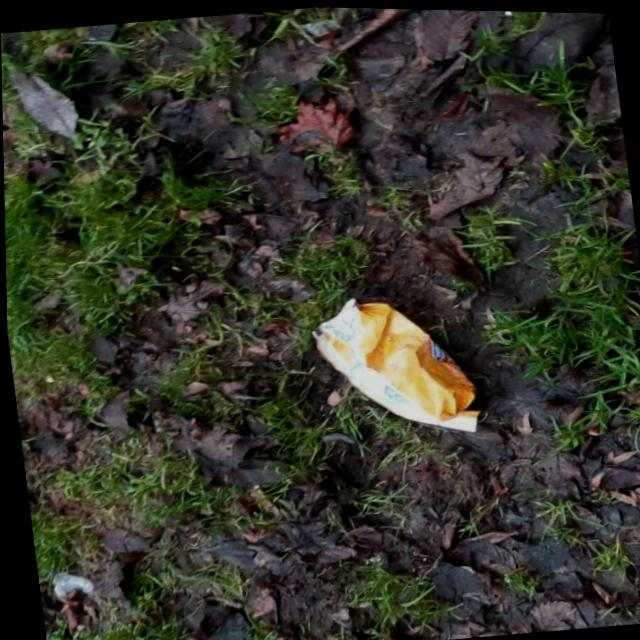Plastic: (302, 280, 487, 445)
